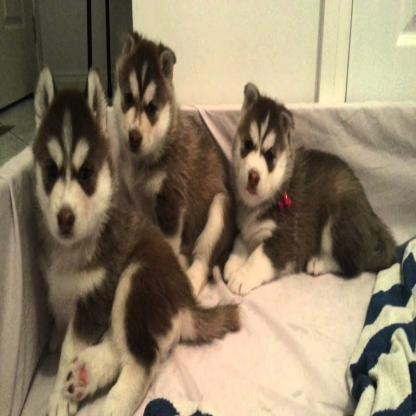dog: (27, 66, 239, 416), (110, 24, 240, 302), (228, 71, 402, 277)
